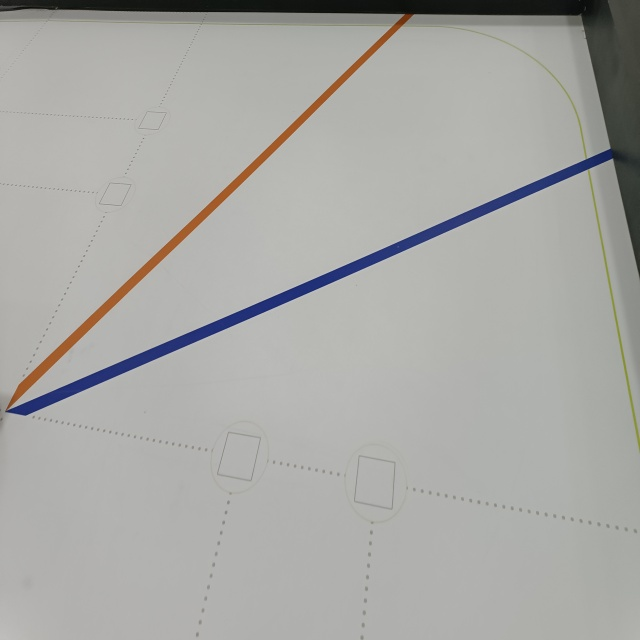blue line: (8, 138, 632, 428)
orange line: (3, 5, 421, 409)
